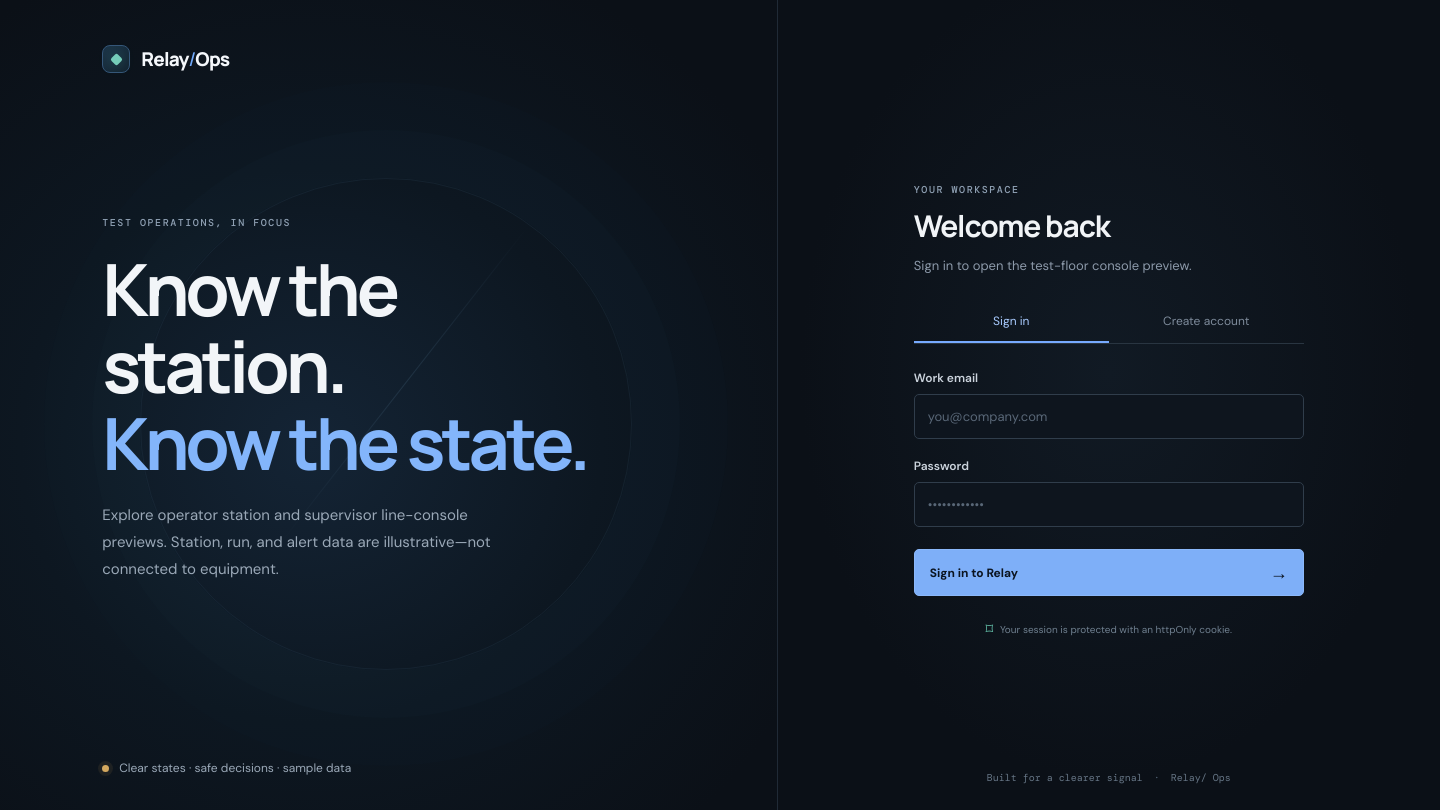
Test: shows sign-in and registration views after restoring an anonymous session
Expected: the heading "Welcome back" is shown, [914,205,1110,246]
Click the tab "Create account" at {"x": 1206, "y": 322}, box [1109,301,1304,343]
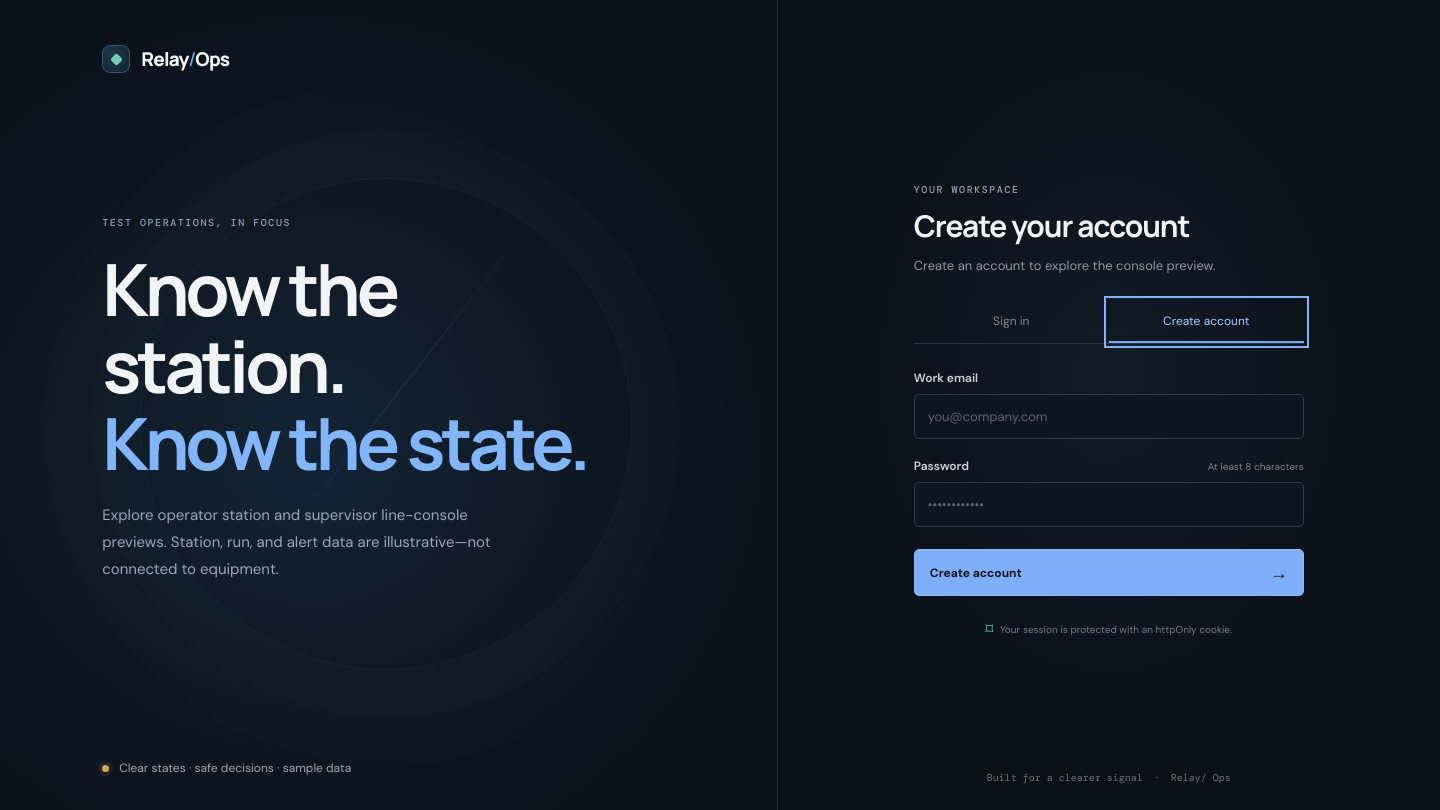
Expected: the field labelled "Work email" is shown, [914,394,1304,439]
Expected: the heading "Create your account" is shown, [914,205,1189,246]
